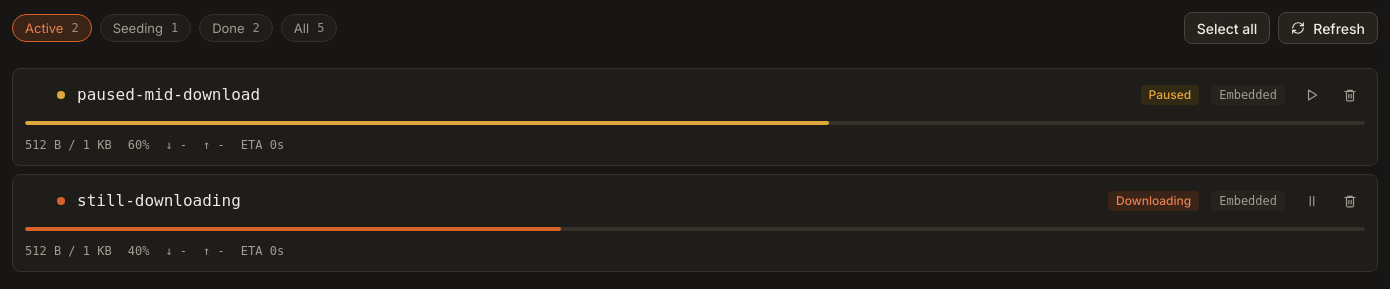
Scenario: Queue filtering › replaces dead rate and ETA metrics on finished rows
Click the button "Done 2" at x=236, y=28, box [199,14,273,42]
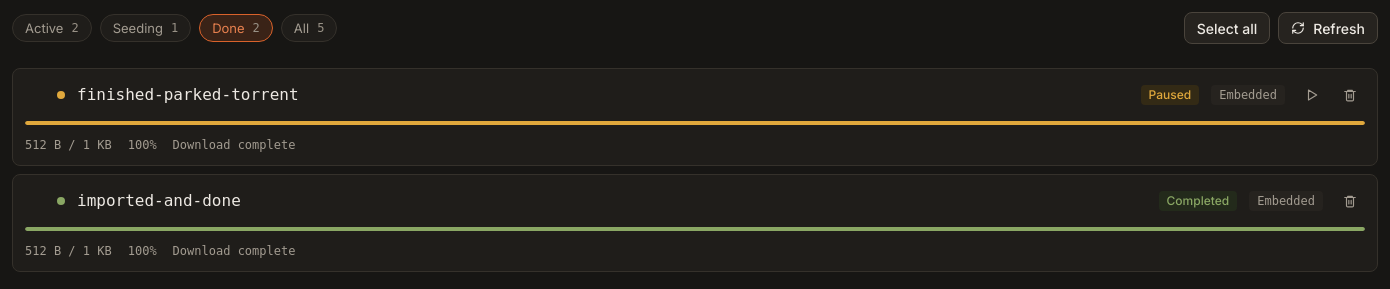
Check: the list item that starts with "finished-parked-torrent" shows "Download complete", box [173,138,295,152]
Check: the text "ETA" is gone
Check: the text "↓" is gone
